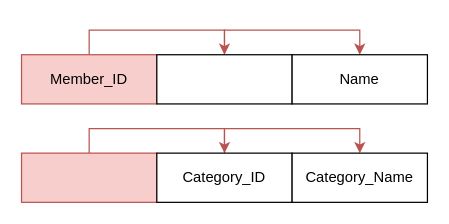
Some shapes in this 449 by 224 pixel diagram are drawn without their labels. The shapes that lost their labels are listed below. From the top down, each one's centre as x and y in pixels, then its label:
[224,79]: Phone_Number
[88,177]: Book_ID
